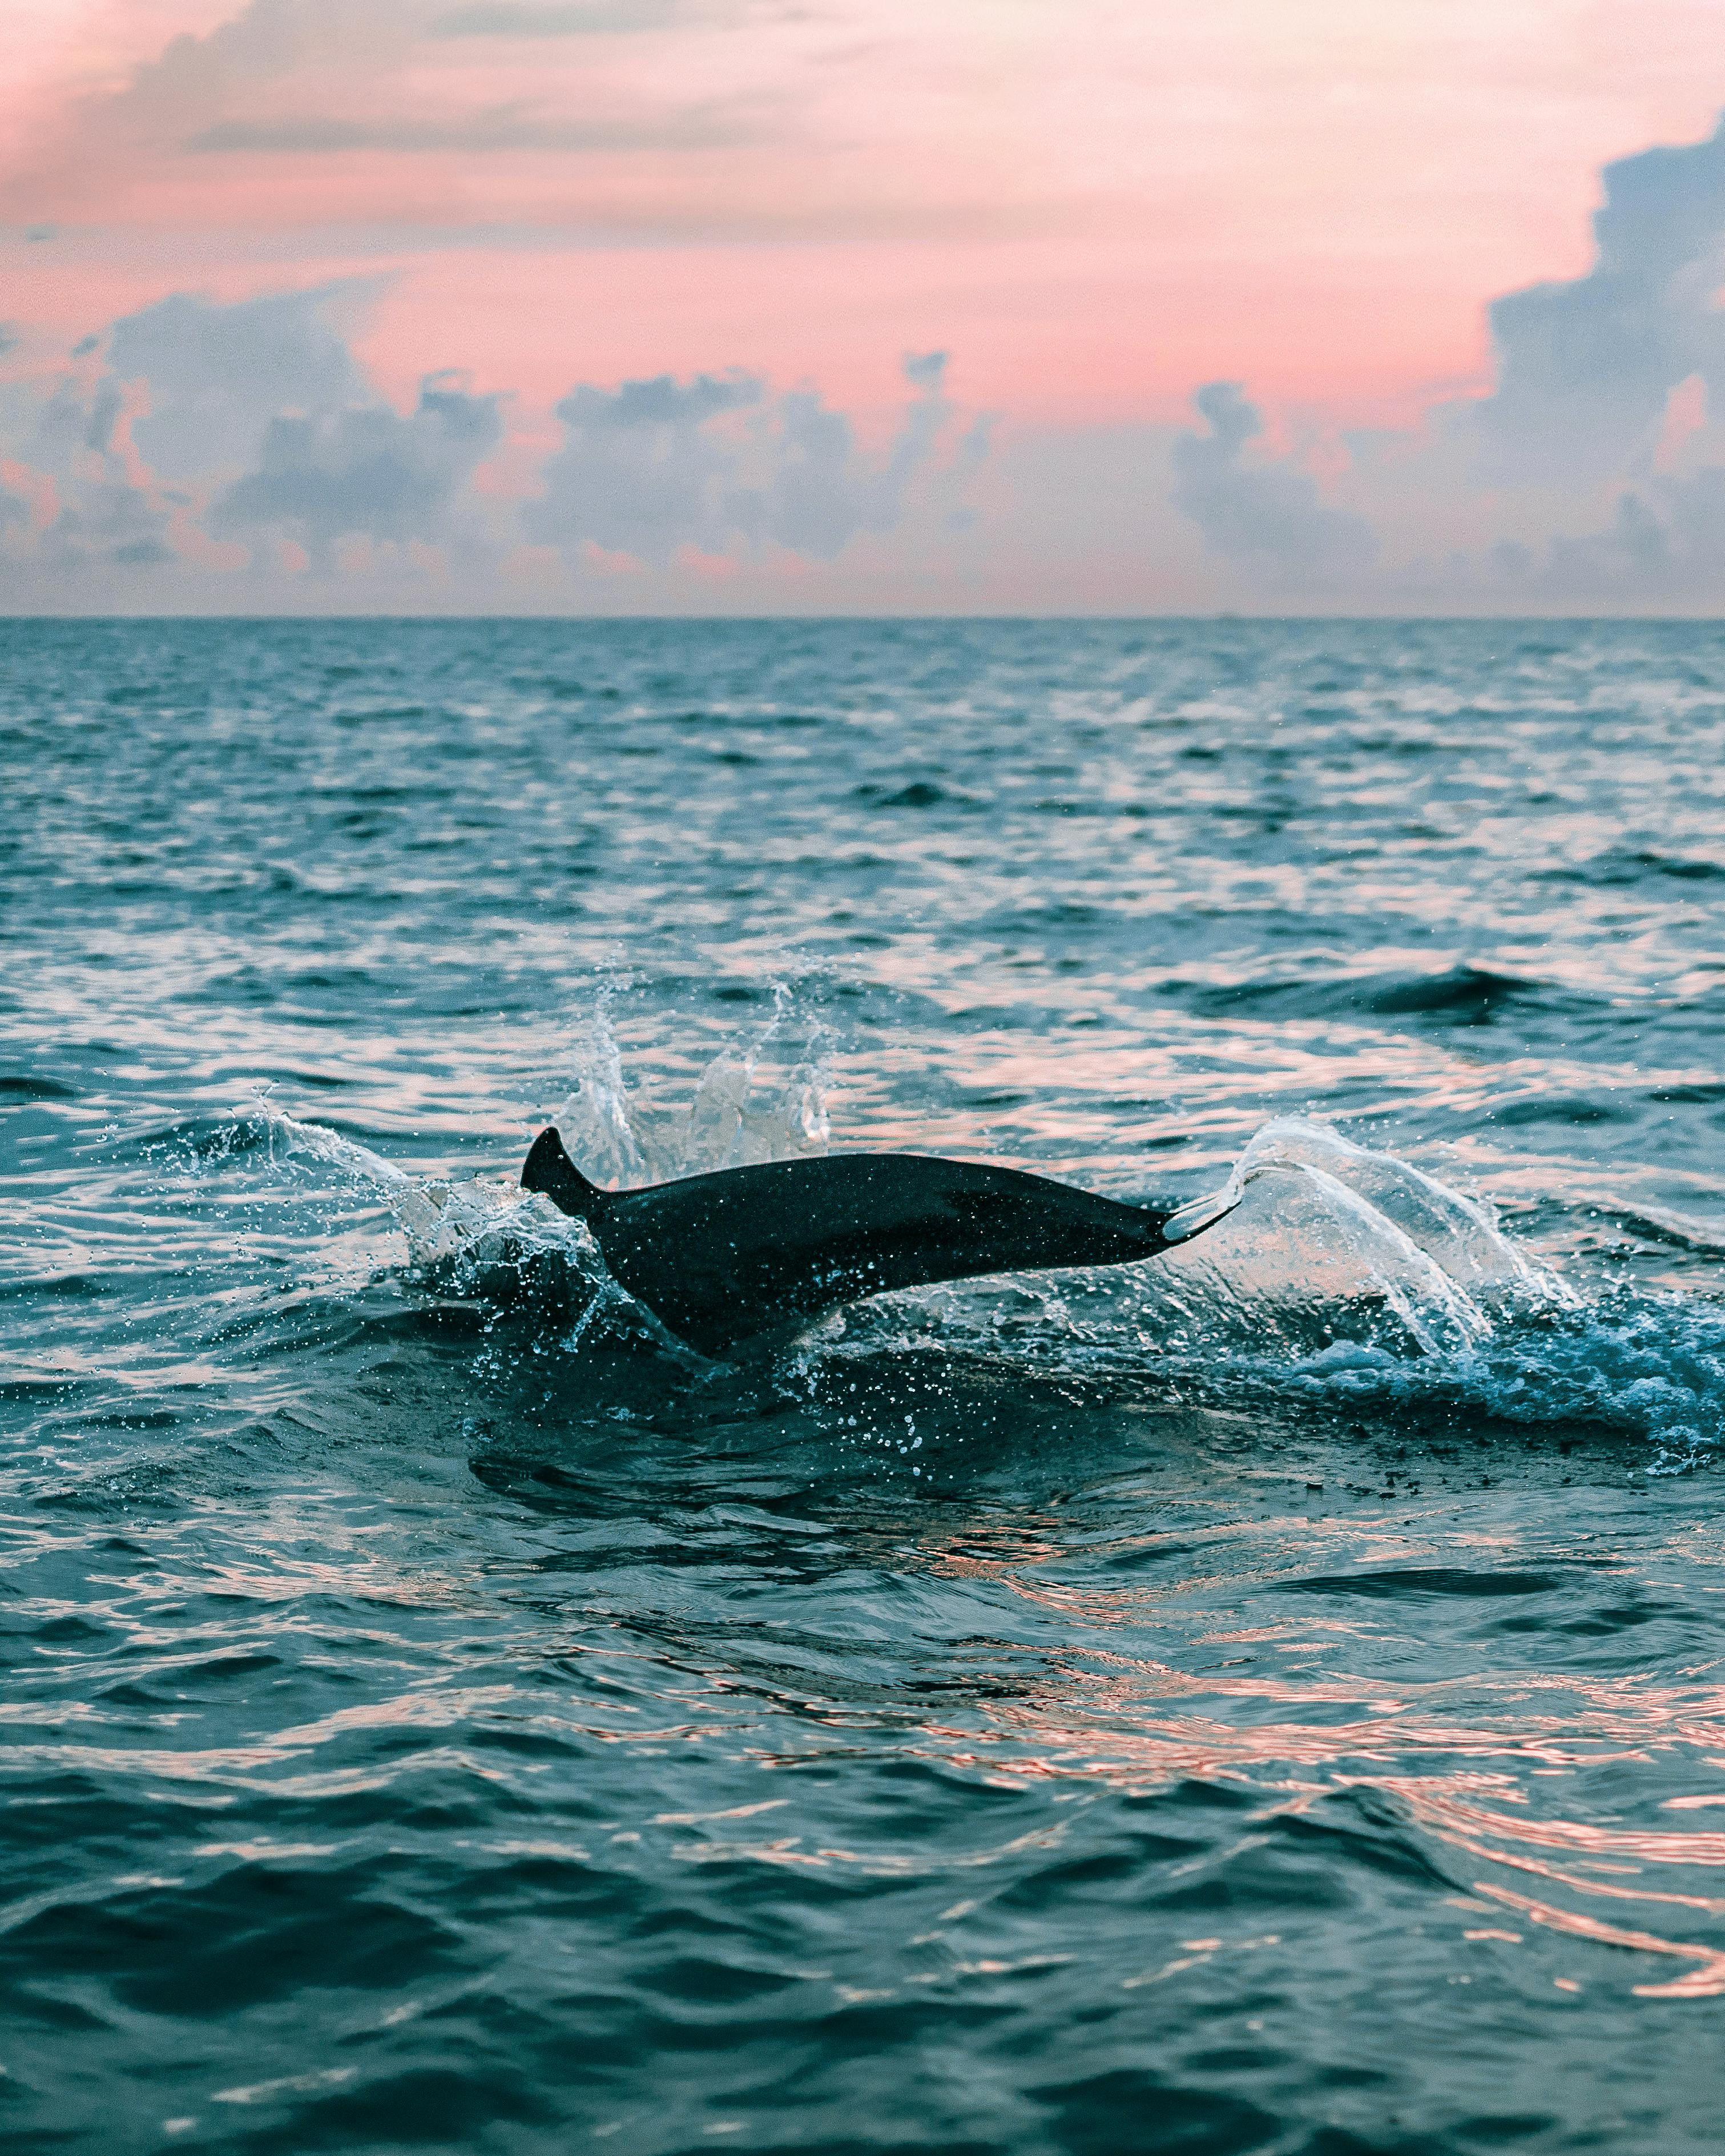dolphin: (516, 1118, 1269, 1359)
